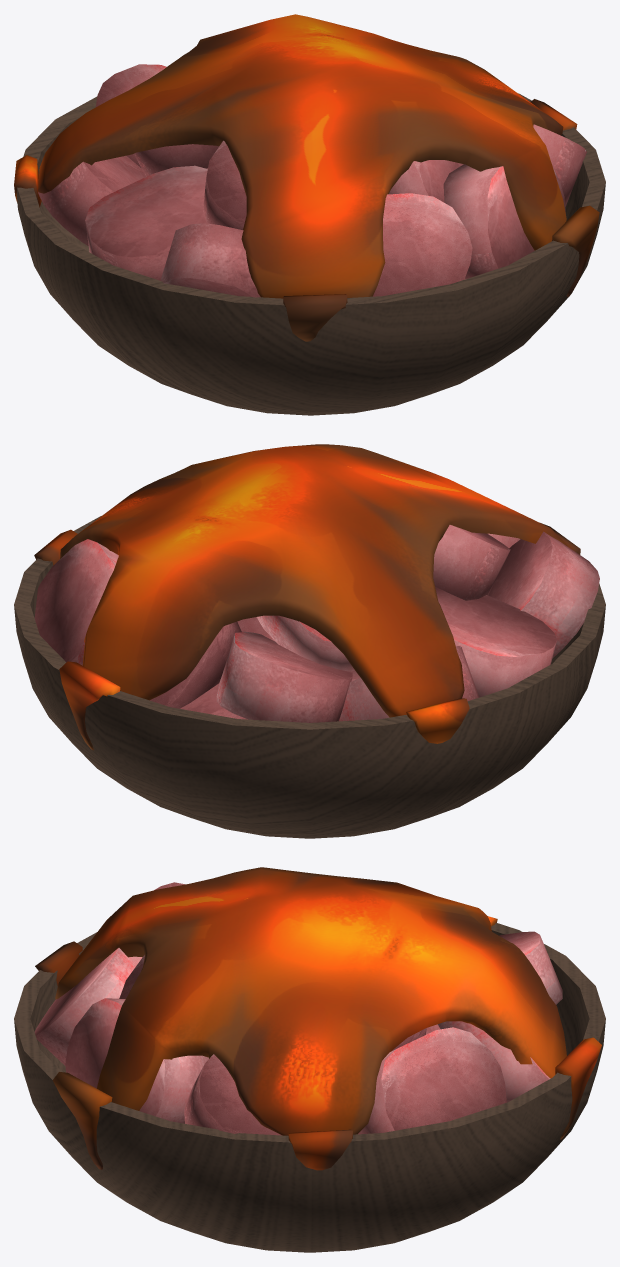
Rendered from FeedBeforeEat.fbx.
The picture shows the model from 3 angles, top to bottom: view 1: azimuth 30°, elevation 25°; view 2: azimuth 150°, elevation 25°; view 3: azimuth 270°, elevation 25°; orthographic projection.
Parts seen in each view (by area): view 1: feed_before_eat; view 2: feed_before_eat; view 3: feed_before_eat.
Part boxes in pixels (x1,y1,x2,y2): feed_before_eat: (14,14,605,415); feed_before_eat: (14,444,605,838); feed_before_eat: (14,867,605,1252).
Size of the model in its own units: 0.302 by 0.1781 by 0.3008.
Materials: 3 (3 with a texture image).
